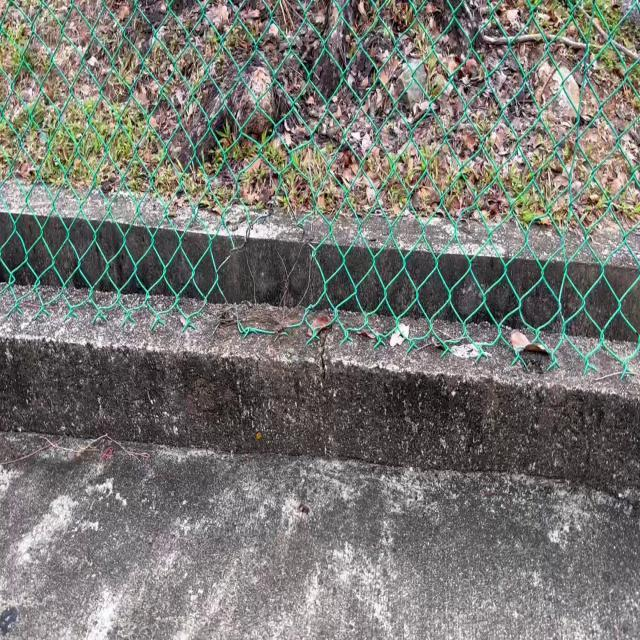fence line: (220, 189, 323, 335)
